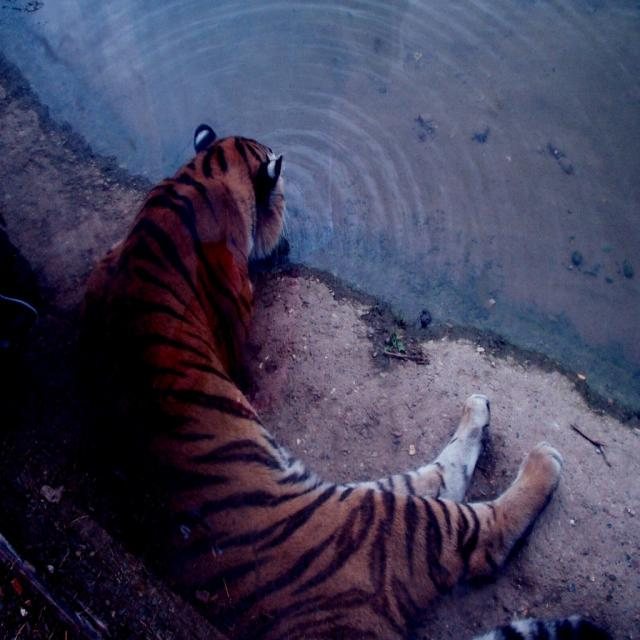Tiger: (84, 121, 583, 640)
